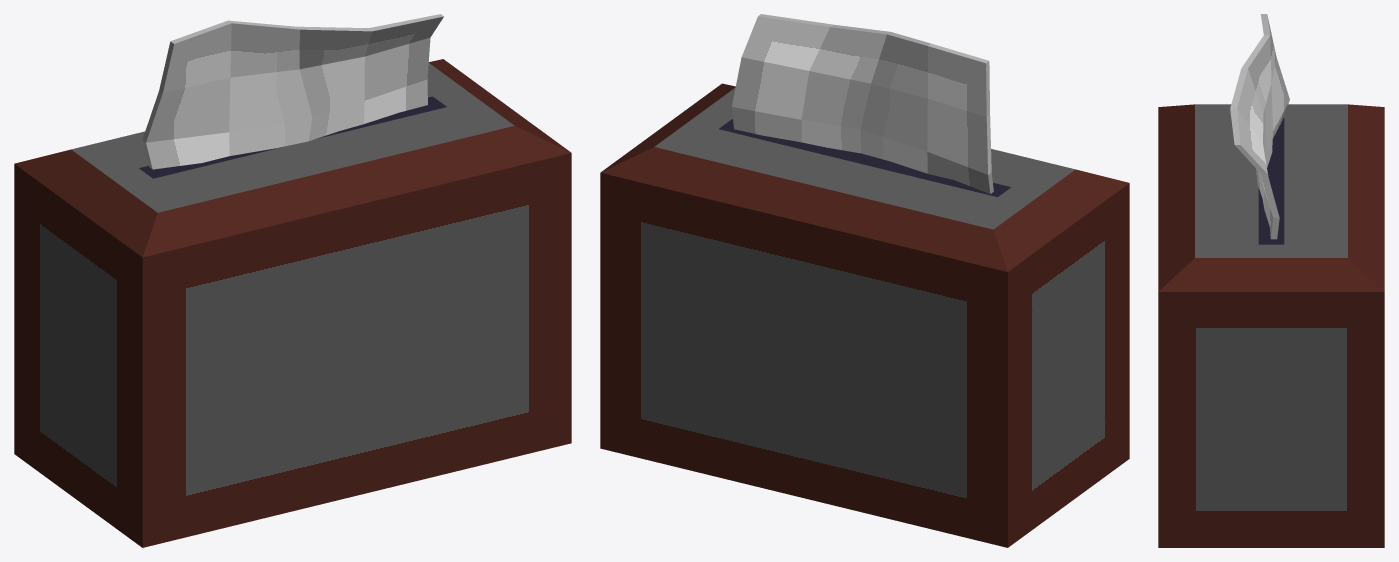
Rendered from NapkinDispenser.fbx.
3 renders of one model, left to right at view 1: azimuth 30°, elevation 25°; view 2: azimuth 150°, elevation 25°; view 3: azimuth 270°, elevation 25°, orthographic. The views are drawn at different scales.
Parts seen in each view (by area): view 1: Napkins.020; view 2: Napkins.020; view 3: Napkins.020.
Boxes of the visible parts, x1,y1,x2,y2 form: Napkins.020: [14, 14, 571, 547]; Napkins.020: [600, 14, 1129, 547]; Napkins.020: [1158, 14, 1384, 547].
Size of the model in its own units: 33.93 by 33.59 by 17.57.
